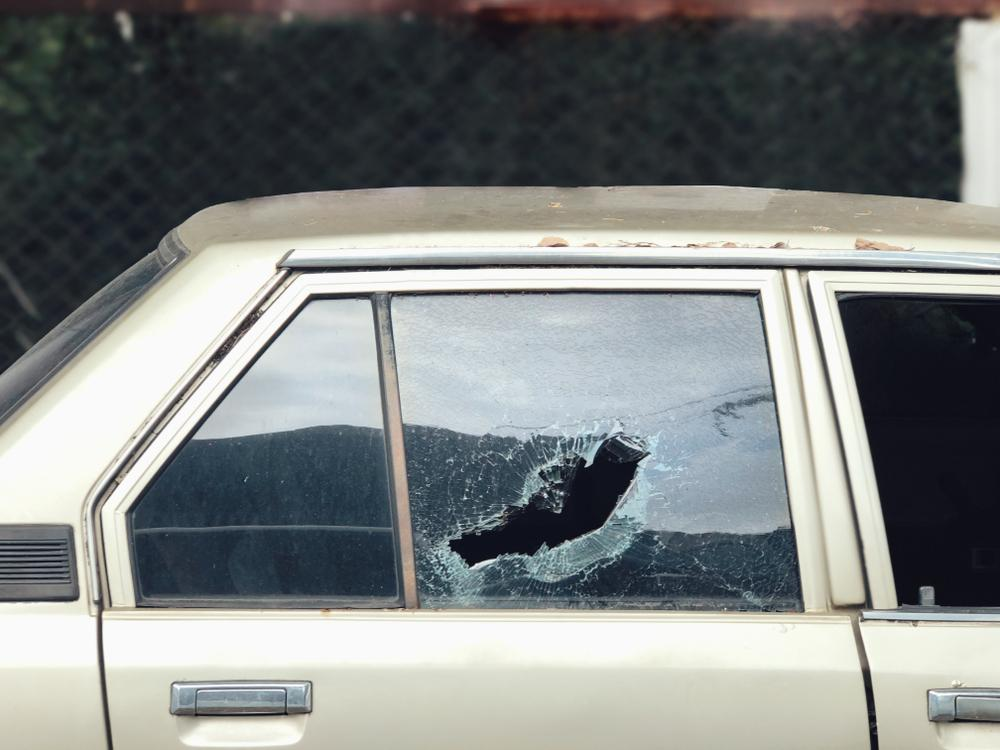glass shatter: (390, 293, 805, 611)
